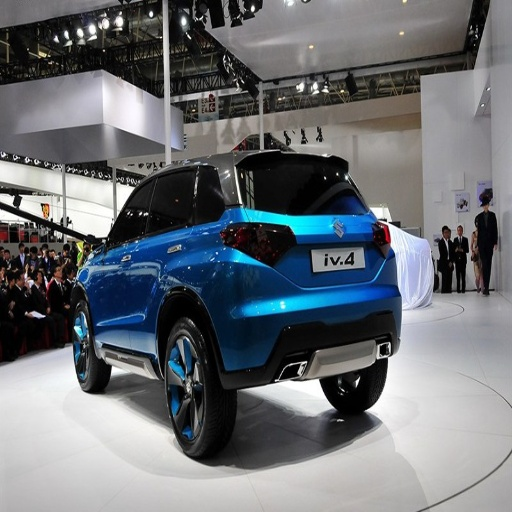back_bumper: (226, 259, 405, 386)
back_glass: (252, 161, 371, 215)
back_left_door: (126, 230, 162, 330)
tailgate: (311, 215, 375, 281)
trunk: (257, 219, 388, 296)
